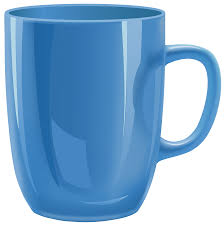cup: (2, 2, 222, 223)
